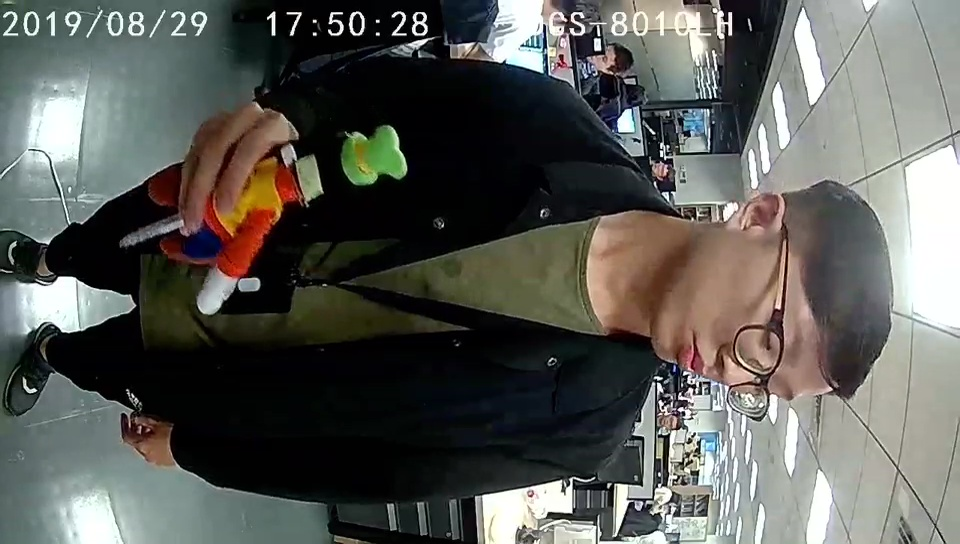goofy: (152, 126, 411, 316)
